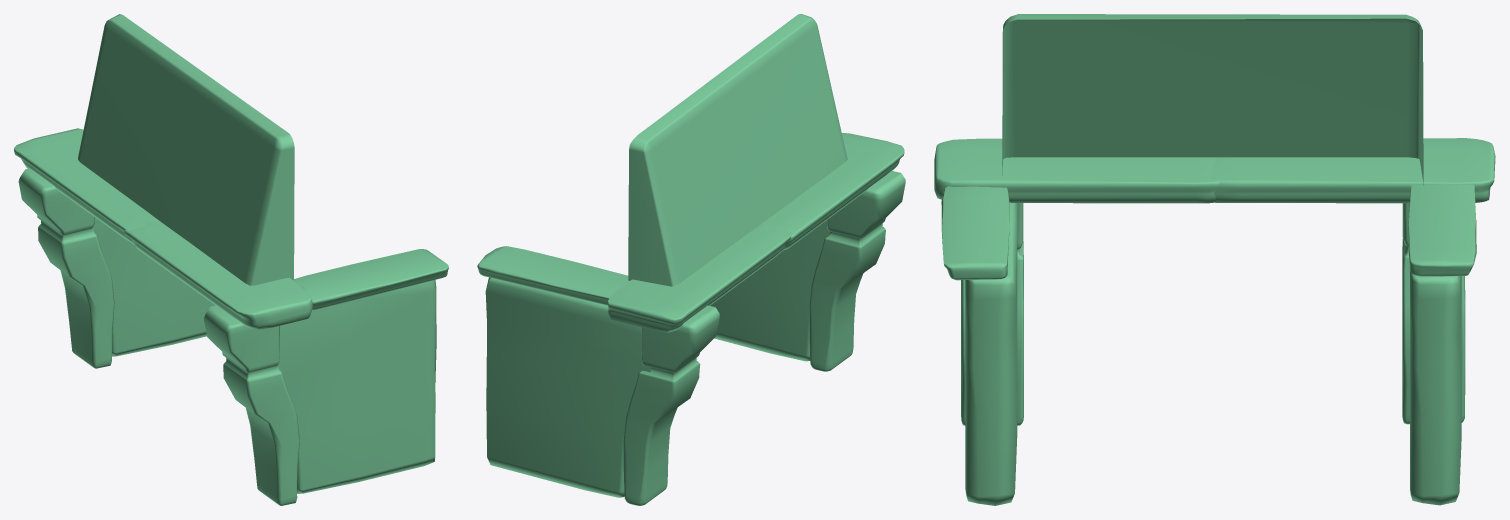
Rendered from Fireplace_01A_Lod0.fbx.
3 views of the same model, side by side, from view 1: azimuth 30°, elevation 25°; view 2: azimuth 150°, elevation 25°; view 3: azimuth 270°, elevation 25° (orthographic). The views are drawn at different scales.
Parts seen in each view (by area): view 1: Fireplace_01A_Lod0; view 2: Fireplace_01A_Lod0; view 3: Fireplace_01A_Lod0.
Part boxes in pixels (x1,y1,x2,y2): Fireplace_01A_Lod0: (14, 14, 448, 505); Fireplace_01A_Lod0: (477, 14, 905, 505); Fireplace_01A_Lod0: (934, 14, 1495, 505).
Size of the model in its own units: 219 by 335 by 410.
